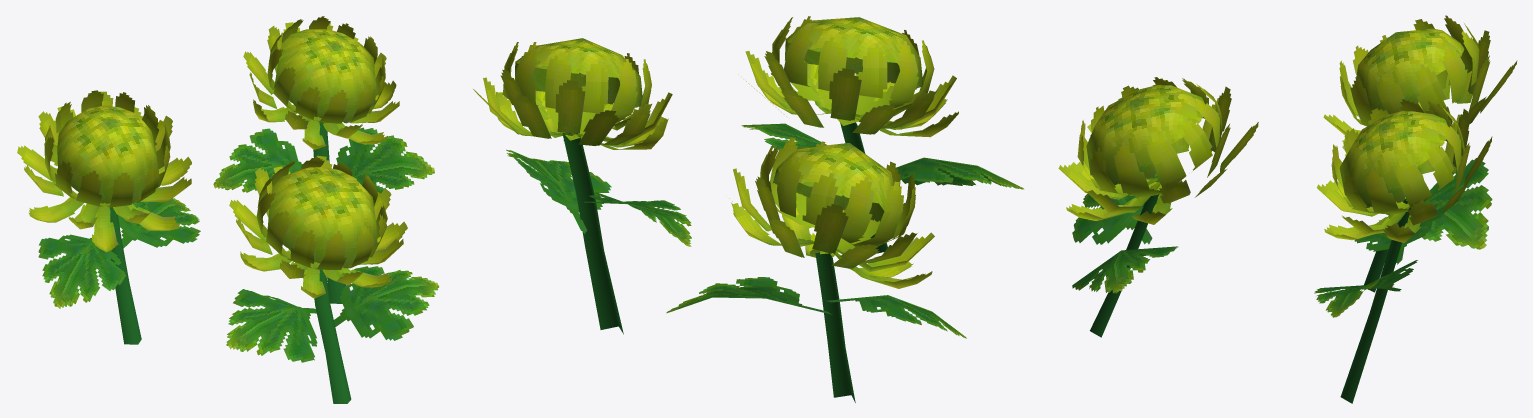
The model's file is green-mums.glb.
3 renders of one model, left to right at view 1: azimuth 30°, elevation 25°; view 2: azimuth 150°, elevation 25°; view 3: azimuth 270°, elevation 25°, orthographic. The views are drawn at different scales.
Size of the model in its own units: 9.99 by 6.47 by 9.28.
Materials: 2 (2 with a texture image).
